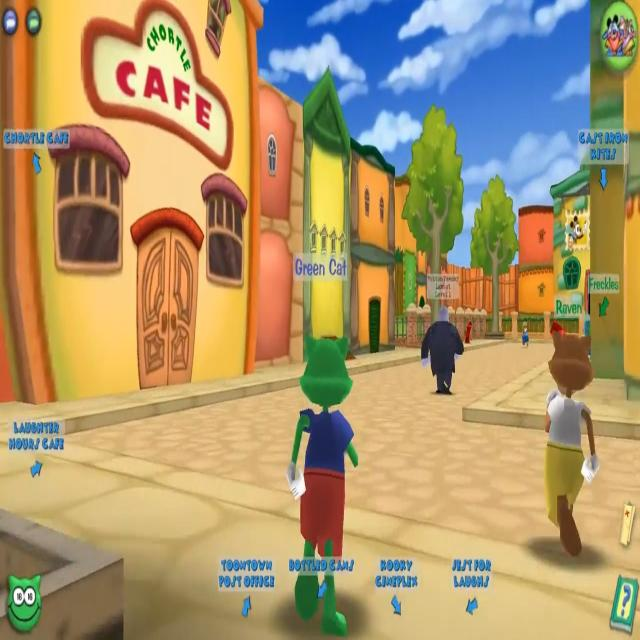bottomfeeder: (417, 274, 467, 401)
